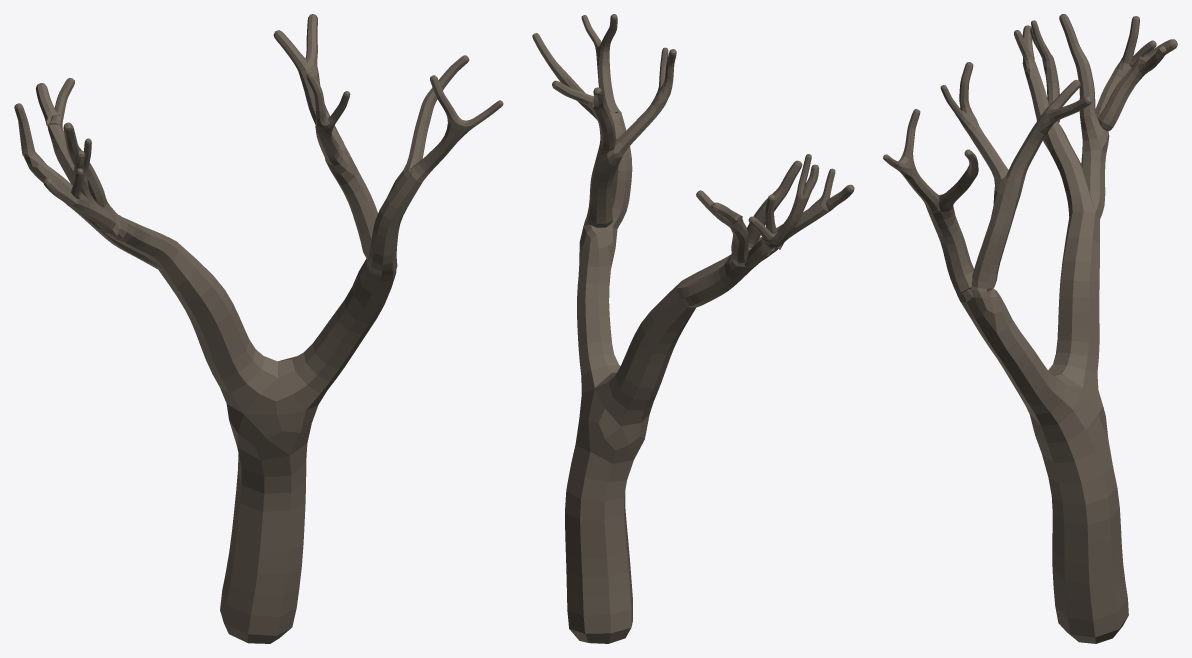
File: dead_tree.glb
The picture shows the model from 3 angles, left to right: view 1: azimuth 30°, elevation 25°; view 2: azimuth 150°, elevation 25°; view 3: azimuth 270°, elevation 25°; orthographic projection. The views are drawn at different scales.
Visible parts, largest first — view 1: tree; view 2: tree; view 3: tree.
Boxes of the visible parts, x1,y1,x2,y2 form: tree: [14, 14, 503, 643]; tree: [532, 14, 854, 643]; tree: [883, 14, 1177, 643].
Size of the model in its own units: 3.33 by 5 by 2.35.
